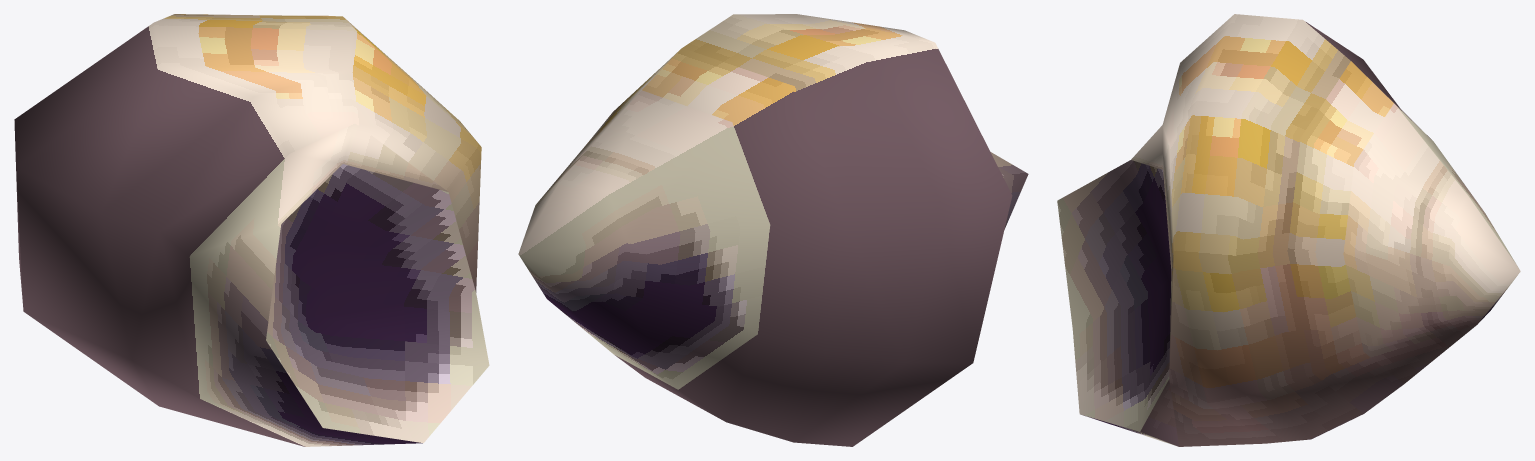
Rendered from int_shl_ebisu.dae.
3 views of the same model, side by side, from view 1: azimuth 30°, elevation 25°; view 2: azimuth 150°, elevation 25°; view 3: azimuth 270°, elevation 25° (orthographic). The views are drawn at different scales.
Parts seen in each view (by area): view 1: int_shl_ebisu; view 2: int_shl_ebisu; view 3: int_shl_ebisu.
Boxes of the visible parts, x1,y1,x2,y2 form: int_shl_ebisu: (14,14,489,446); int_shl_ebisu: (518,14,1028,446); int_shl_ebisu: (1057,14,1520,446).
Size of the model in its own units: 10.8 by 9.66 by 11.49.
Materials: 1 (1 with a texture image).
